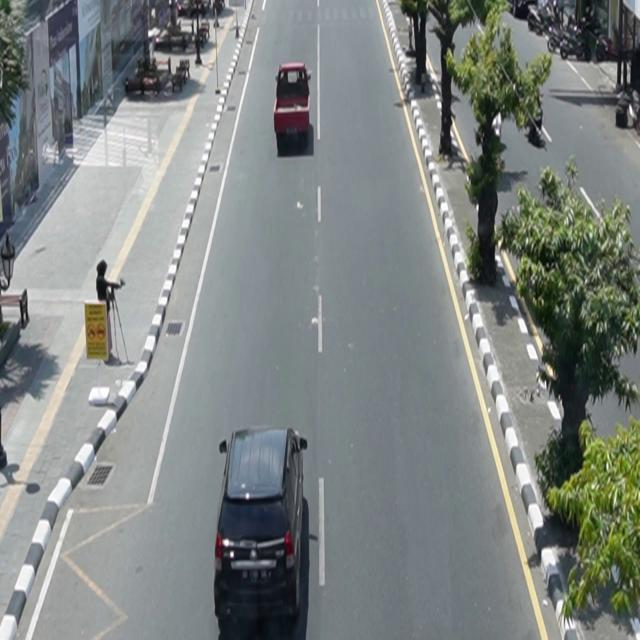car: (214, 426, 309, 637), (274, 62, 313, 142)
